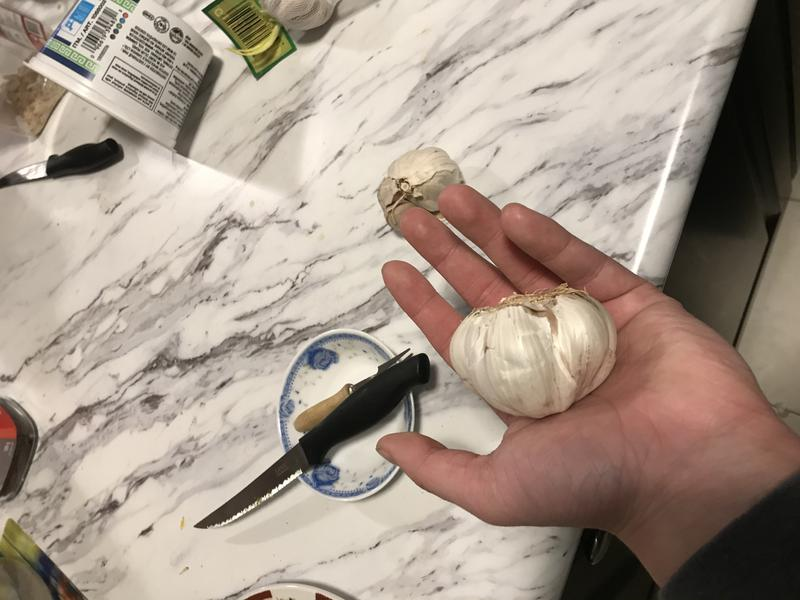garlic: (446, 280, 623, 421), (372, 145, 472, 242)
